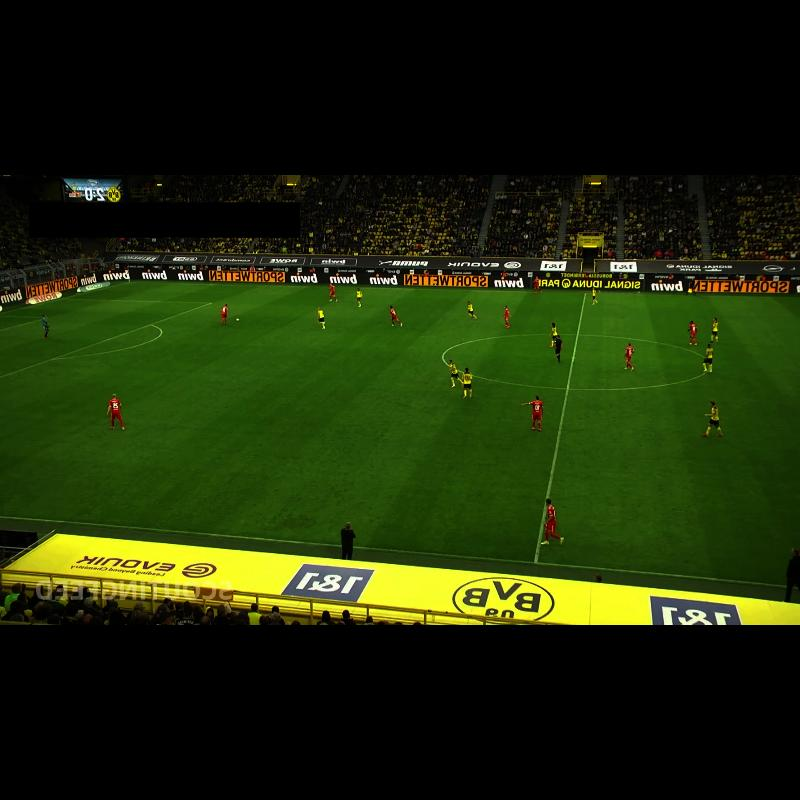cross_recipient_zone: (0, 299, 212, 377)
crossing_player_zone: (64, 283, 332, 305), (0, 404, 63, 441)
pitch: (0, 282, 800, 587)
